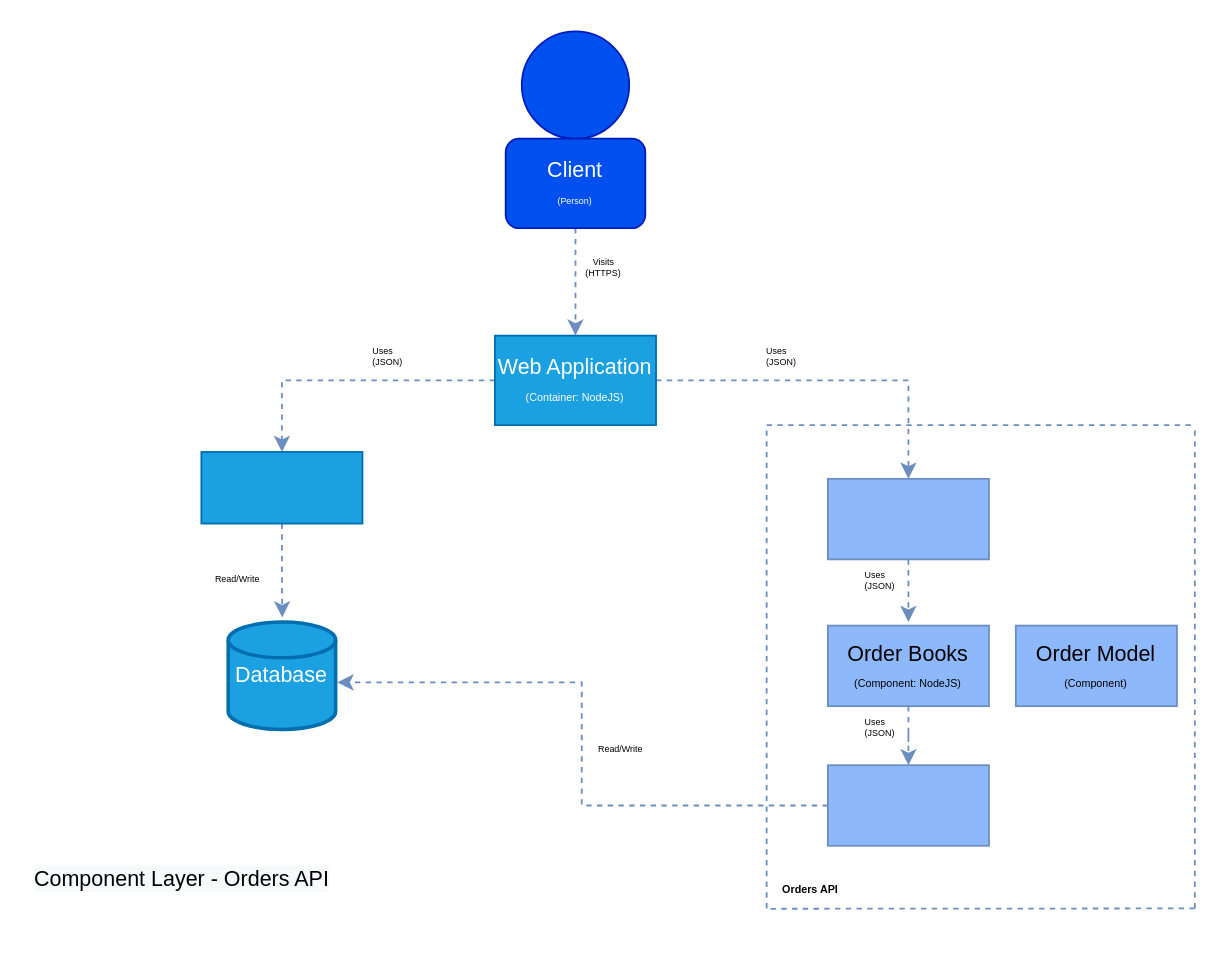
Image size: 1228x958. Some labels were removed from this diagram. The centre of each missing label's shape, as x and y in pixels:
"Order Controller (Component: NodeJS)" goes at [907,518].
"Order Repository (Component: NodeJS)" goes at [907,804].
"User API (Container: NodeJS)" goes at [281,487].
